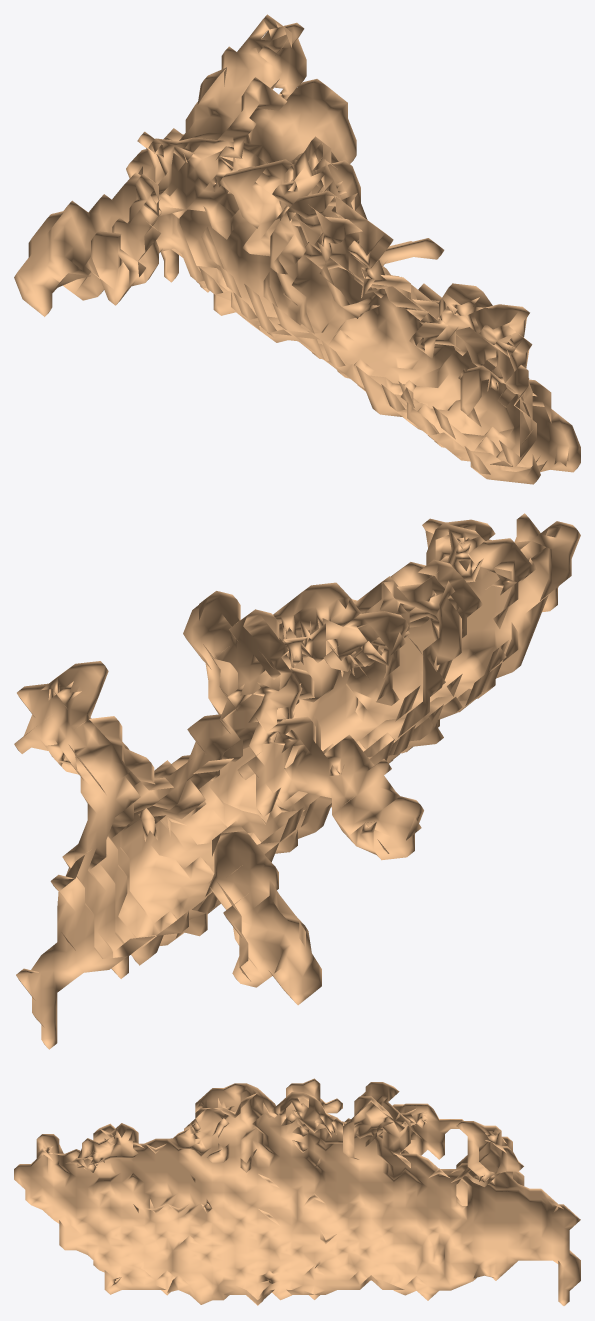
The model's file is osteocyte_35.glb.
3 views of the same model, one above another, from view 1: azimuth 30°, elevation 25°; view 2: azimuth 150°, elevation 25°; view 3: azimuth 270°, elevation 25° (orthographic). The views are drawn at different scales.
Visible parts, largest first — view 1: osteocyte_35; view 2: osteocyte_35; view 3: osteocyte_35.
Boxes of the visible parts, <box> form: osteocyte_35: <box>14,14,580,484</box>; osteocyte_35: <box>14,513,580,1049</box>; osteocyte_35: <box>14,1078,580,1305</box>.
Bounding box in the file's own units: 9.63 × 9.63 × 24.07.
